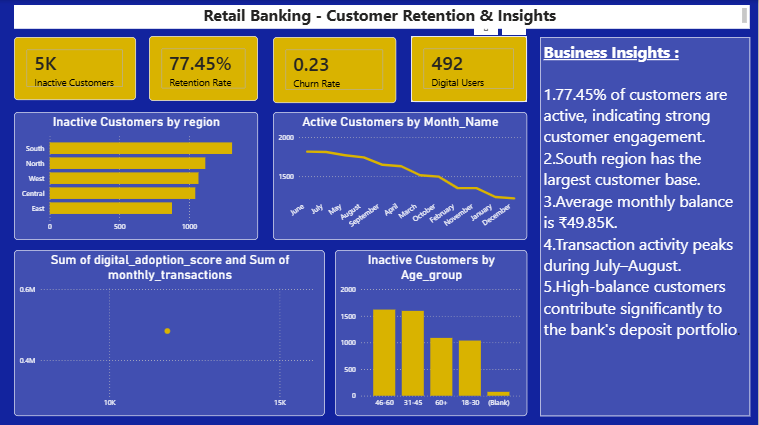

This screenshot's page, from the dashboard's own definition file:
{"tool":"powerbi","page":{"name":"Customer Retention & Insights","canvas":[1280,720],"ordinal":2},"visuals":[{"type":"cardVisual","fields":{"Data":["merged_retail_banking.Retention Rate"]},"box":[257,60.5,183.1,109.2],"z":0},{"type":"cardVisual","fields":{"Data":["merged_retail_banking.Churn Rate"]},"box":[465.3,62.2,206.6,110.9],"z":1000},{"type":"cardVisual","fields":{"Data":["merged_retail_banking.Inactive Customers"]},"box":[30.2,62.2,204.9,105.8],"z":2000},{"type":"cardVisual","fields":{"Data":["merged_retail_banking.Digital Users"]},"box":[697.1,60.5,194.9,110.9],"z":3000},{"type":"barChart","fields":{"Category":["merged_retail_banking.region"],"Y":["merged_retail_banking.Inactive Customers"]},"box":[30.2,188.1,409.9,215],"z":4000},{"type":"columnChart","fields":{"Category":["merged_retail_banking.Age_group"],"Y":["merged_retail_banking.Inactive Customers"]},"box":[569.4,419.9,322.5,278.8],"z":5000},{"type":"scatterChart","fields":{"X":["Sum(merged_retail_banking.digital_adoption_score)"],"Y":["Sum(merged_retail_banking.monthly_transactions)"]},"box":[30.2,419.9,522.4,278.8],"z":6000},{"type":"lineChart","fields":{"Category":["merged_retail_banking.Month_Name"],"Y":["merged_retail_banking.Active Customers"]},"box":[465.3,188.1,426.7,215],"z":7000},{"type":"textbox","box":[913.8,62.2,352.8,636.6],"z":8000},{"type":"textbox","box":[30.2,8.4,1236.3,40.3],"z":9000}]}

Visuals, with their boxes in screenshot pixels (x1, y1, x2, y2), scaled from the page's 1280x720 canvas onto the 759x425 screenshot:
cardVisual - merged_retail_banking.Retention Rate: [152, 36, 261, 100]
cardVisual - merged_retail_banking.Churn Rate: [276, 37, 398, 102]
cardVisual - merged_retail_banking.Inactive Customers: [18, 37, 139, 99]
cardVisual - merged_retail_banking.Digital Users: [413, 36, 529, 101]
barChart - merged_retail_banking.region x merged_retail_banking.Inactive Customers: [18, 111, 261, 238]
columnChart - merged_retail_banking.Age_group x merged_retail_banking.Inactive Customers: [338, 248, 529, 412]
scatterChart - Sum(merged_retail_banking.digital_adoption_score) x Sum(merged_retail_banking.monthly_transactions): [18, 248, 328, 412]
lineChart - merged_retail_banking.Month_Name x merged_retail_banking.Active Customers: [276, 111, 529, 238]
textbox: [542, 37, 751, 412]
textbox: [18, 5, 751, 29]
